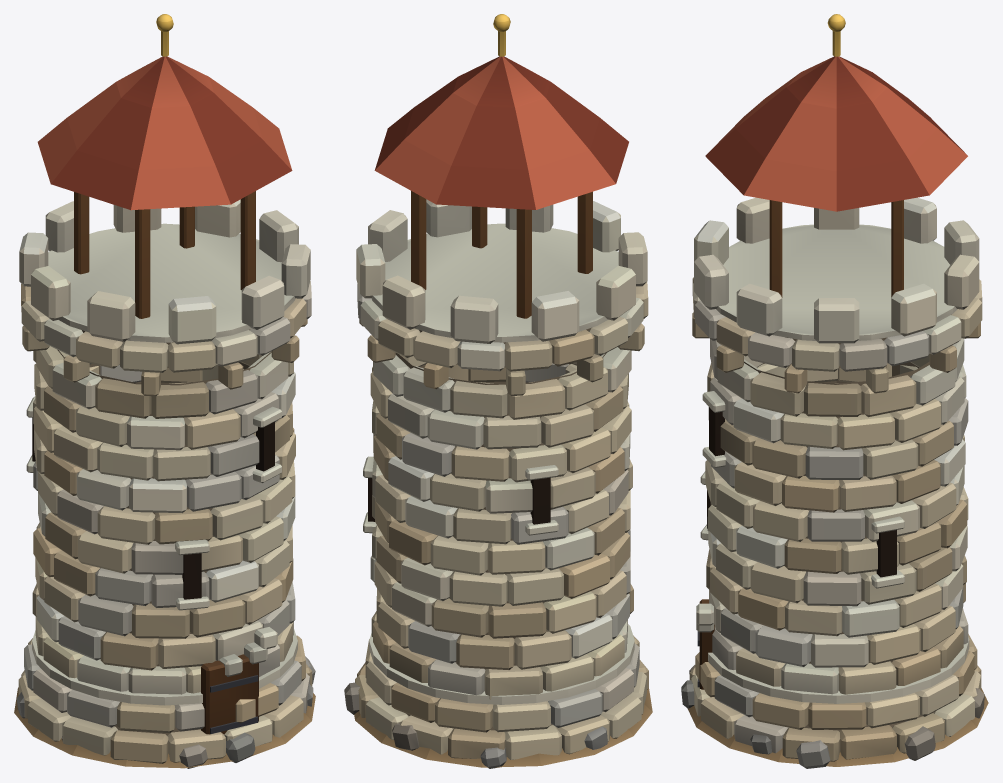
Rendered from archer_tower_3.glb.
3 renders of one model, left to right at view 1: azimuth 30°, elevation 25°; view 2: azimuth 150°, elevation 25°; view 3: azimuth 270°, elevation 25°, orthographic.
Visible parts, largest first — view 1: archer_tower_3; view 2: archer_tower_3; view 3: archer_tower_3.
Part boxes in pixels (x1=…): archer_tower_3: x1=14, y1=14, x2=315, y2=768; archer_tower_3: x1=344, y1=14, x2=652, y2=768; archer_tower_3: x1=681, y1=14, x2=988, y2=768.
Size of the model in its own units: 0.6089 by 1.51 by 0.607.
